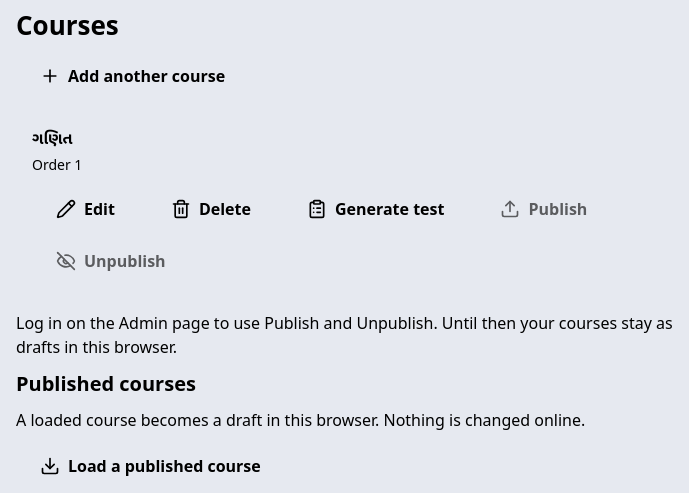
it: CourseManager: Generate test › a course with no test shows the empty text
What coordinates should you click on to do the following:
click the button "Generate test"
I would click on:
 (376, 208)
Its box is top-left (283, 186), bottom-right (468, 230).
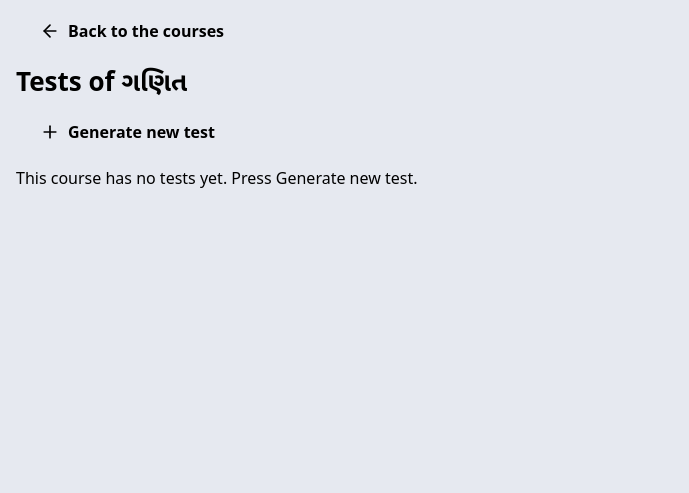
Result: the text "This course has no tests yet. Press Generate new test." is shown at top-left (16, 166), bottom-right (418, 188)
